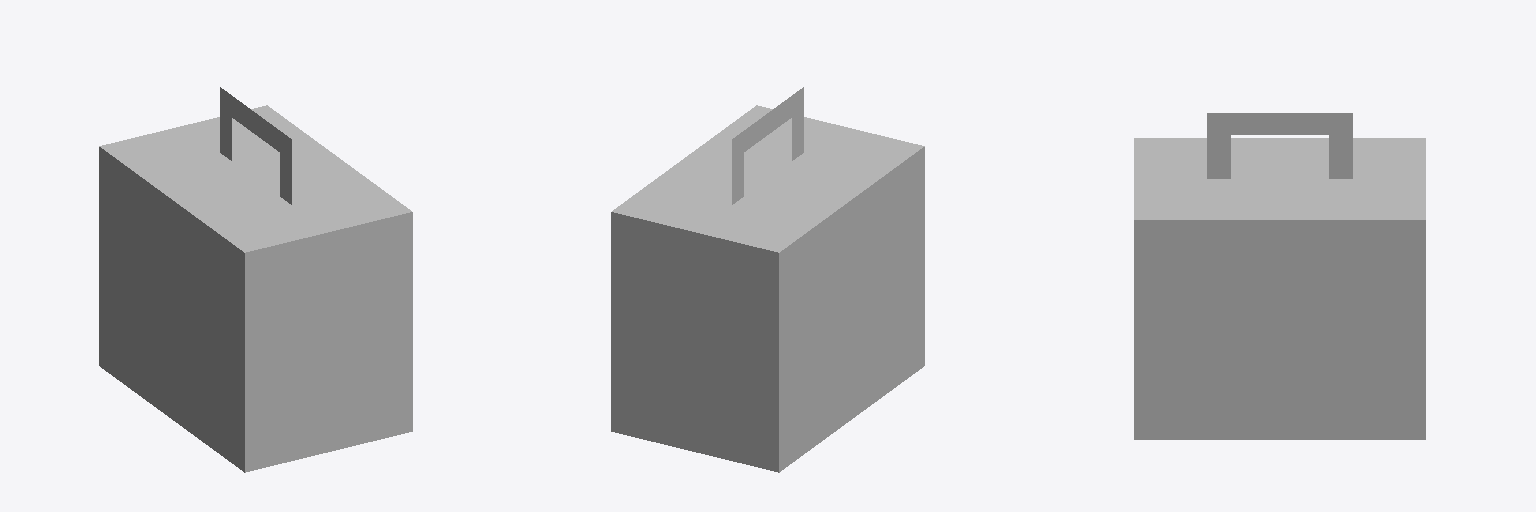
Rendered from toolbox.obj.
3 renders of one model, left to right at view 1: azimuth 30°, elevation 25°; view 2: azimuth 150°, elevation 25°; view 3: azimuth 270°, elevation 25°, orthographic.
Visible parts, largest first — view 1: cube; view 2: cube; view 3: cube.
Part boxes in pixels (bbox=[...]): cube: bbox=[99, 87, 412, 472]; cube: bbox=[611, 87, 924, 472]; cube: bbox=[1134, 113, 1425, 439].
Size of the model in its own units: 0.5 by 0.8125 by 0.75.